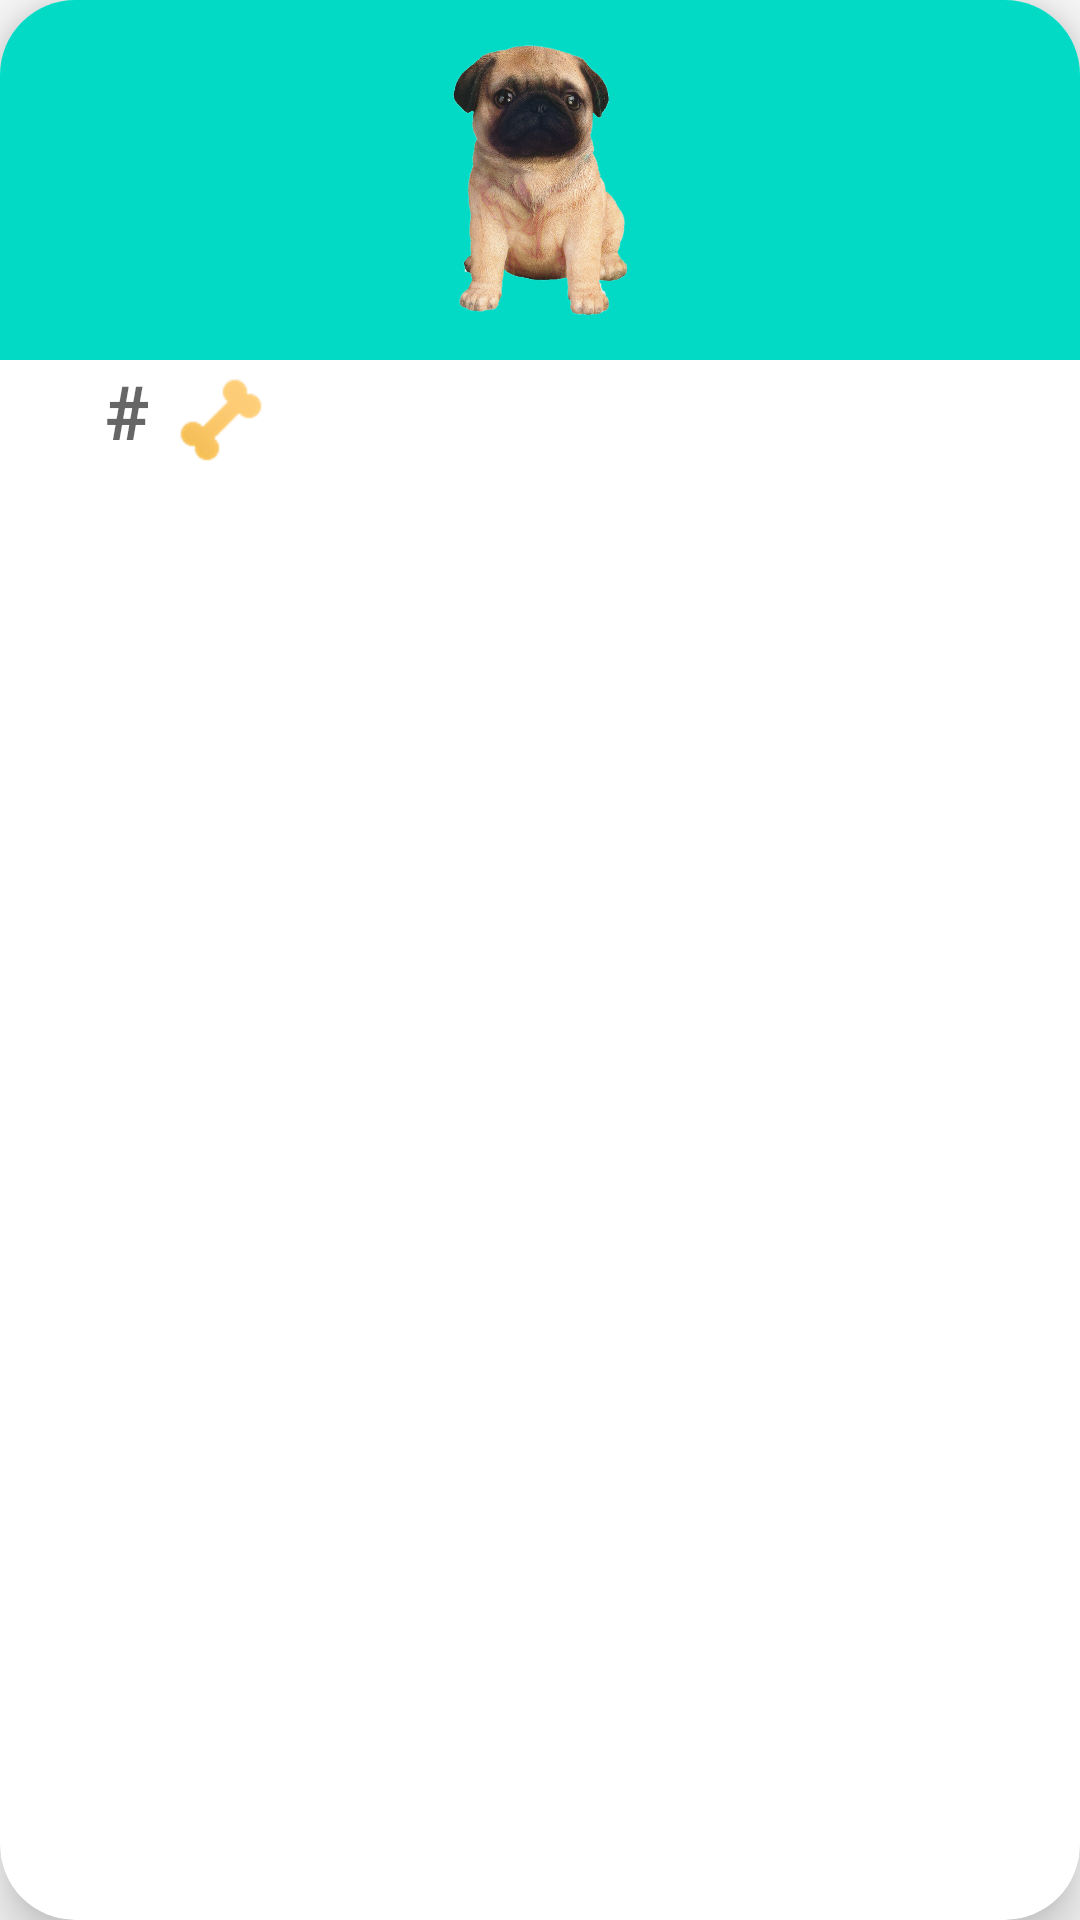

Where icons sit on this 1080px x 1920px app screen, as (x1, y1, x2, y2):
hueso amarillo: (180, 379, 262, 461)
perrito arreglado: (453, 45, 627, 315)
